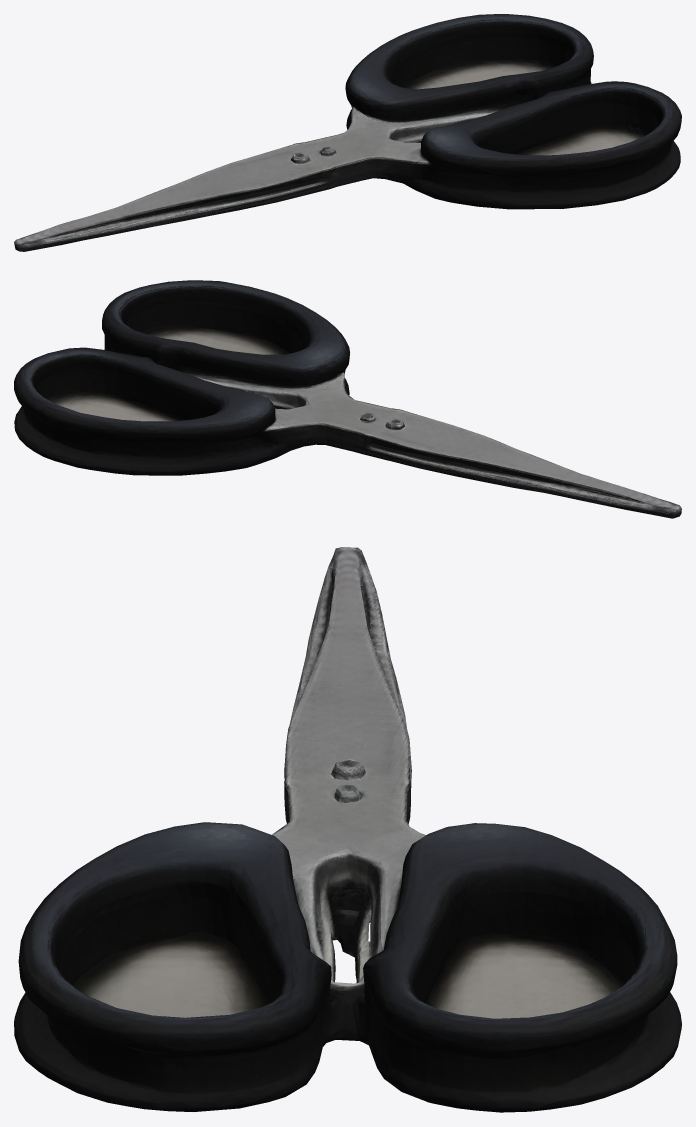
Rendered from sample.glb.
The picture shows the model from 3 angles, top to bottom: view 1: azimuth 30°, elevation 25°; view 2: azimuth 150°, elevation 25°; view 3: azimuth 270°, elevation 25°; orthographic projection. The views are drawn at different scales.
Visible parts, largest first — view 1: world; view 2: world; view 3: world.
Part boxes in pixels (x1=…): world: x1=14, y1=14, x2=681, y2=251; world: x1=14, y1=280, x2=681, y2=518; world: x1=14, y1=547, x2=681, y2=1112.
Size of the model in its own units: 0.9952 by 0.0795 by 0.5195.
1 material, 1 textured.
